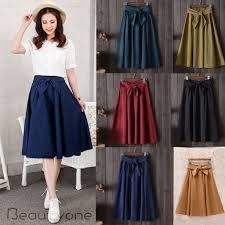Tshirt: (24, 34, 76, 79)
skirt: (24, 75, 89, 166), (115, 3, 164, 72), (112, 155, 160, 225), (176, 4, 222, 73), (177, 79, 223, 148), (112, 79, 159, 145), (178, 160, 222, 219)
